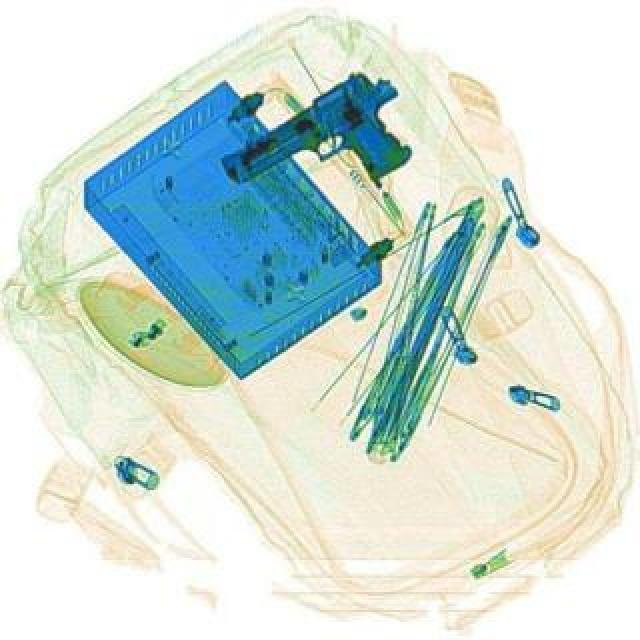gun: (210, 58, 434, 240)
